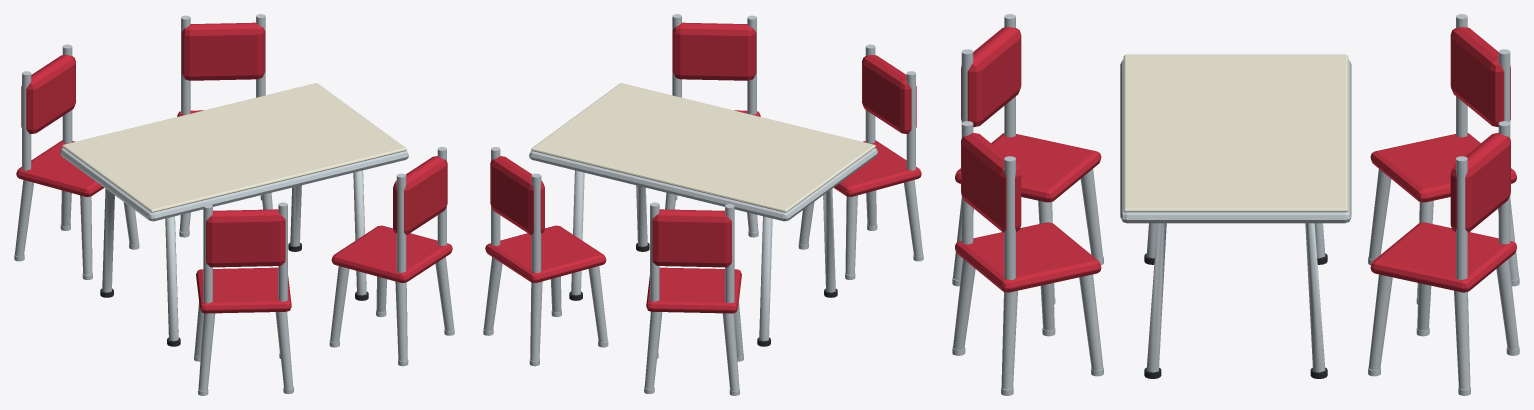
Rendered from kitchen_set_retro_diner.glb.
3 renders of one model, left to right at view 1: azimuth 30°, elevation 25°; view 2: azimuth 150°, elevation 25°; view 3: azimuth 270°, elevation 25°, orthographic. The views are drawn at different scales.
Parts seen in each view (by area): view 1: Diner ivory laminate top, Retro red diner chair 4 upholstered back pad, Retro red diner chair 1 upholstered back pad, Retro red diner chair 2 seat, Retro red diner chair 1 seat, Diner chrome tabletop edging, Retro red diner chair 3 upholstered back pad, Retro red diner chair 2 upholstered back pad, Diner chrome U-frame legs, Retro red diner chair 3 seat, Diner chrome U-frame legs.001, Retro red diner chair 2 back post.001 (+14 smaller); view 2: Diner ivory laminate top, Retro red diner chair 2 upholstered back pad, Retro red diner chair 3 upholstered back pad, Retro red diner chair 4 seat, Retro red diner chair 3 seat, Diner chrome tabletop edging, Retro red diner chair 1 upholstered back pad, Retro red diner chair 4 upholstered back pad, Diner chrome U-frame legs, Retro red diner chair 1 seat, Diner chrome U-frame legs.001, Retro red diner chair 4 back post (+14 smaller); view 3: Diner ivory laminate top, Retro red diner chair 2 seat, Retro red diner chair 4 seat, Retro red diner chair 1 seat, Retro red diner chair 3 seat, Retro red diner chair 1 upholstered back pad, Retro red diner chair 3 upholstered back pad, Diner chrome tabletop edging, Retro red diner chair 2 upholstered back pad, Retro red diner chair 4 upholstered back pad, Diner chrome U-frame legs.001, Retro red diner chair 2 leg.001 (+18 smaller).
Part boxes in pixels (left/top/right/bottom): Diner ivory laminate top: left=62, top=83, right=406, bottom=212; Retro red diner chair 4 upholstered back pad: left=181, top=22, right=265, bottom=80; Retro red diner chair 1 upholstered back pad: left=206, top=209, right=285, bottom=267; Retro red diner chair 2 seat: left=331, top=225, right=452, bottom=282; Retro red diner chair 1 seat: left=196, top=267, right=291, bottom=313; Diner chrome tabletop edging: left=60, top=148, right=408, bottom=221; Retro red diner chair 3 upholstered back pad: left=21, top=55, right=75, bottom=133; Retro red diner chair 2 upholstered back pad: left=393, top=156, right=447, bottom=234; Diner chrome U-frame legs: left=102, top=188, right=178, bottom=341; Retro red diner chair 3 seat: left=16, top=140, right=103, bottom=196; Diner chrome U-frame legs.001: left=290, top=170, right=366, bottom=295; Retro red diner chair 2 back post.001: left=396, top=173, right=406, bottom=272; Diner ivory laminate top: left=531, top=83, right=875, bottom=212; Retro red diner chair 2 upholstered back pad: left=672, top=22, right=756, bottom=80; Retro red diner chair 3 upholstered back pad: left=652, top=209, right=731, bottom=267; Retro red diner chair 4 seat: left=485, top=225, right=606, bottom=282; Retro red diner chair 3 seat: left=646, top=267, right=741, bottom=313; Diner chrome tabletop edging: left=529, top=148, right=877, bottom=221; Retro red diner chair 1 upholstered back pad: left=862, top=55, right=916, bottom=133; Retro red diner chair 4 upholstered back pad: left=490, top=156, right=544, bottom=234; Diner chrome U-frame legs: left=759, top=188, right=835, bottom=341; Retro red diner chair 1 seat: left=834, top=140, right=921, bottom=196; Diner chrome U-frame legs.001: left=571, top=170, right=647, bottom=295; Retro red diner chair 4 back post: left=531, top=173, right=541, bottom=272; Diner ivory laminate top: left=1123, top=54, right=1348, bottom=212; Retro red diner chair 2 seat: left=955, top=222, right=1101, bottom=292; Retro red diner chair 4 seat: left=1370, top=222, right=1516, bottom=292; Retro red diner chair 1 seat: left=955, top=133, right=1101, bottom=202; Retro red diner chair 3 seat: left=1370, top=133, right=1516, bottom=202; Retro red diner chair 1 upholstered back pad: left=961, top=27, right=1021, bottom=127; Retro red diner chair 3 upholstered back pad: left=1450, top=27, right=1510, bottom=127; Diner chrome tabletop edging: left=1120, top=59, right=1351, bottom=223; Retro red diner chair 2 upholstered back pad: left=961, top=132, right=1021, bottom=232; Retro red diner chair 4 upholstered back pad: left=1450, top=132, right=1510, bottom=232; Diner chrome U-frame legs.001: left=1146, top=223, right=1325, bottom=372; Retro red diner chair 2 leg.001: left=1001, top=290, right=1017, bottom=389.
Size of the model in its own units: 1.44 by 0.98 by 2.18.
